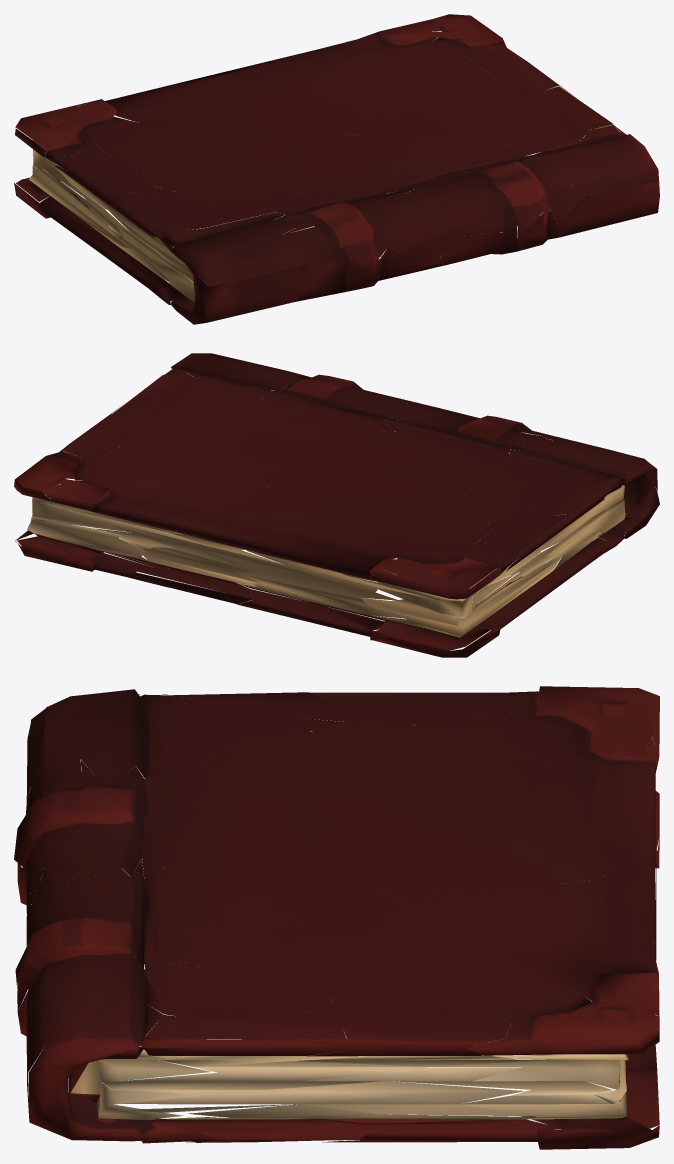
The model's file is closed-reading-book.glb.
The picture shows the model from 3 angles, top to bottom: view 1: azimuth 30°, elevation 25°; view 2: azimuth 150°, elevation 25°; view 3: azimuth 270°, elevation 25°; orthographic projection. The views are drawn at different scales.
Visible parts, largest first — view 1: closed-reading-book-1; view 2: closed-reading-book-1; view 3: closed-reading-book-1.
Boxes of the visible parts, x1=… form: closed-reading-book-1: x1=14, y1=14, x2=659, y2=324; closed-reading-book-1: x1=14, y1=353, x2=659, y2=657; closed-reading-book-1: x1=14, y1=686, x2=659, y2=1149.
Bounding box in the file's own units: 0.26 × 0.04 × 0.2.
2 materials, 2 textured.
